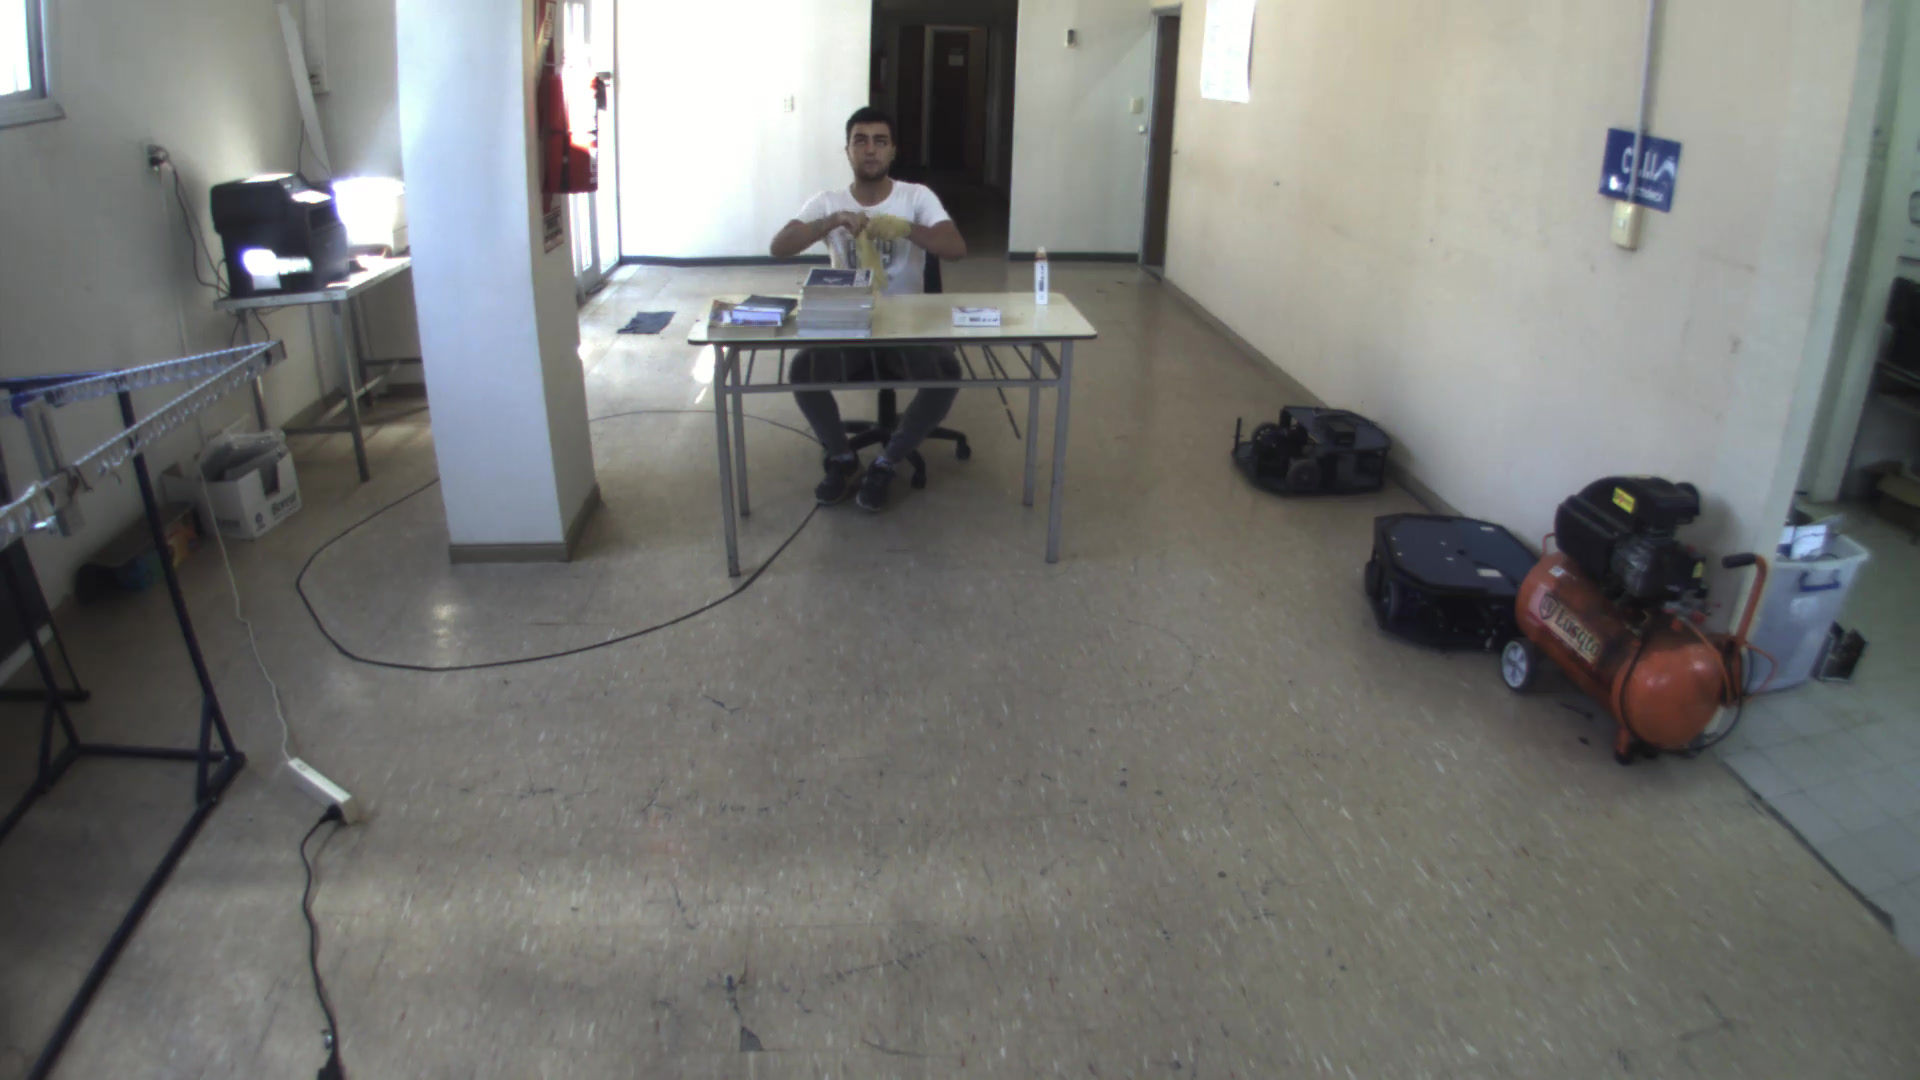hand: (866, 212, 913, 244), (825, 210, 872, 241)
